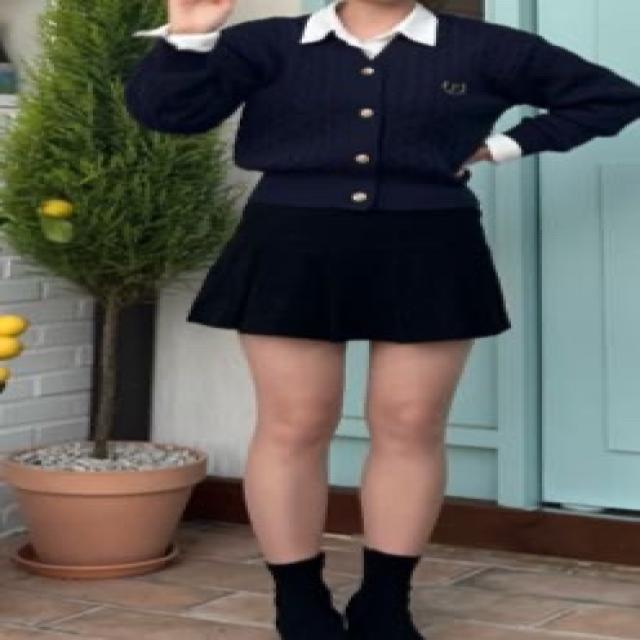cardigan: (126, 8, 640, 208)
skirt: (181, 192, 514, 342)
